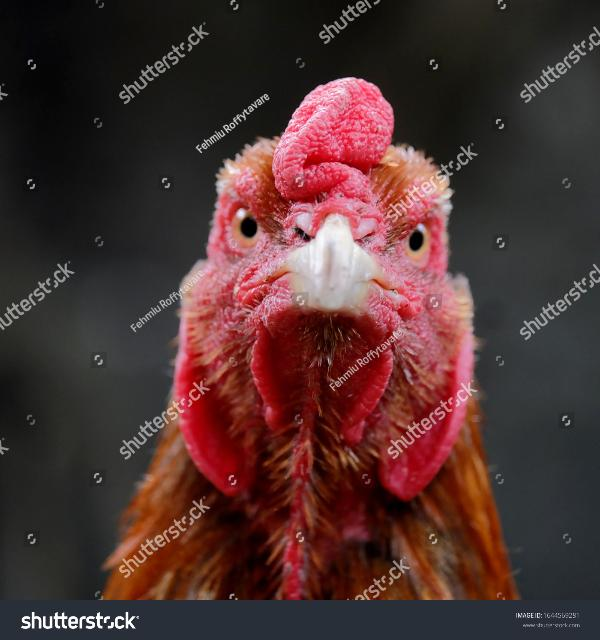Chicken: (104, 76, 520, 601)
